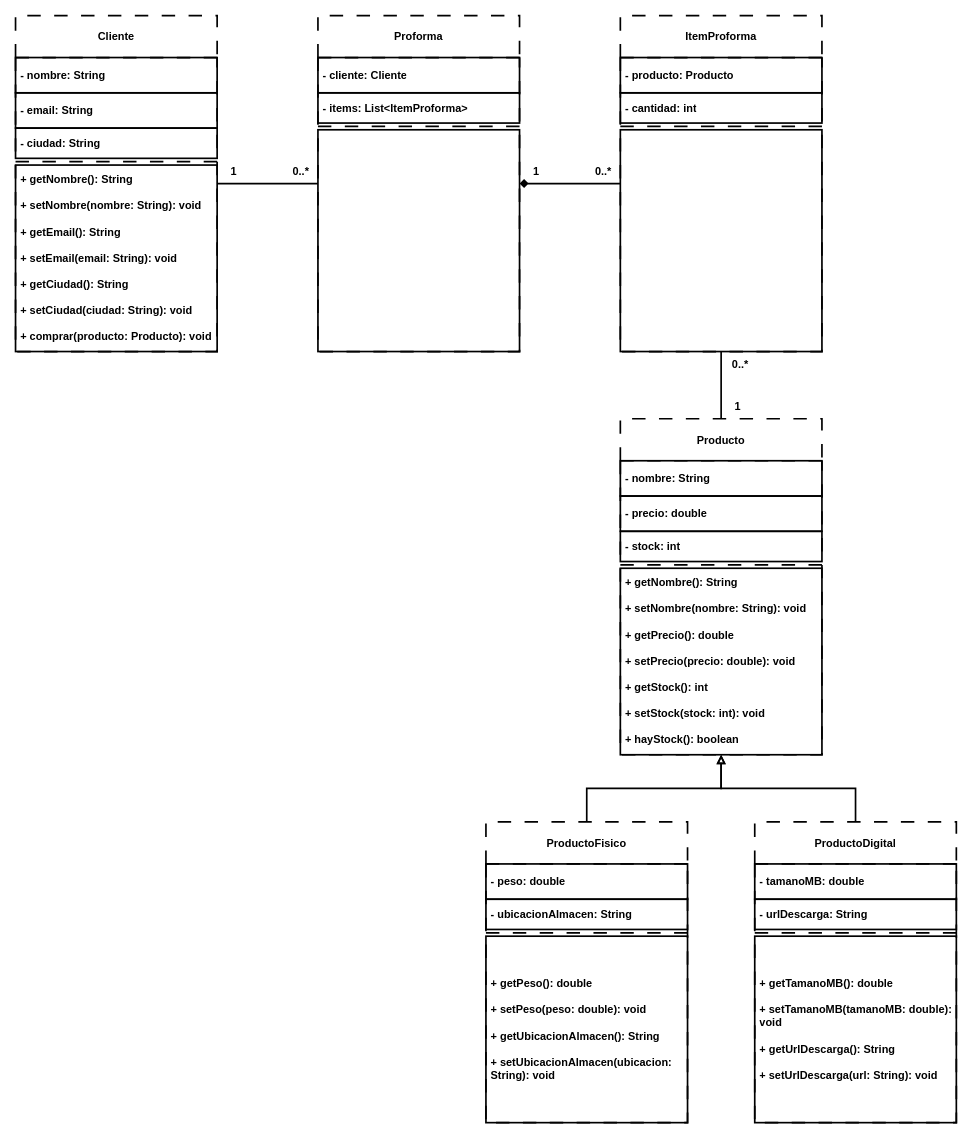
Some shapes in this 971 by 1137 pixel diagram are drawn without their labels. Each missing label, with the centre of its shape:
"+ agregarItem(item: ItemProforma): void + calcularTotal(): double" belongs at point (418, 240).
"+ getProducto(): Producto + getCantidad(): int + calcularSubtotal(): double" belongs at point (720, 240).
